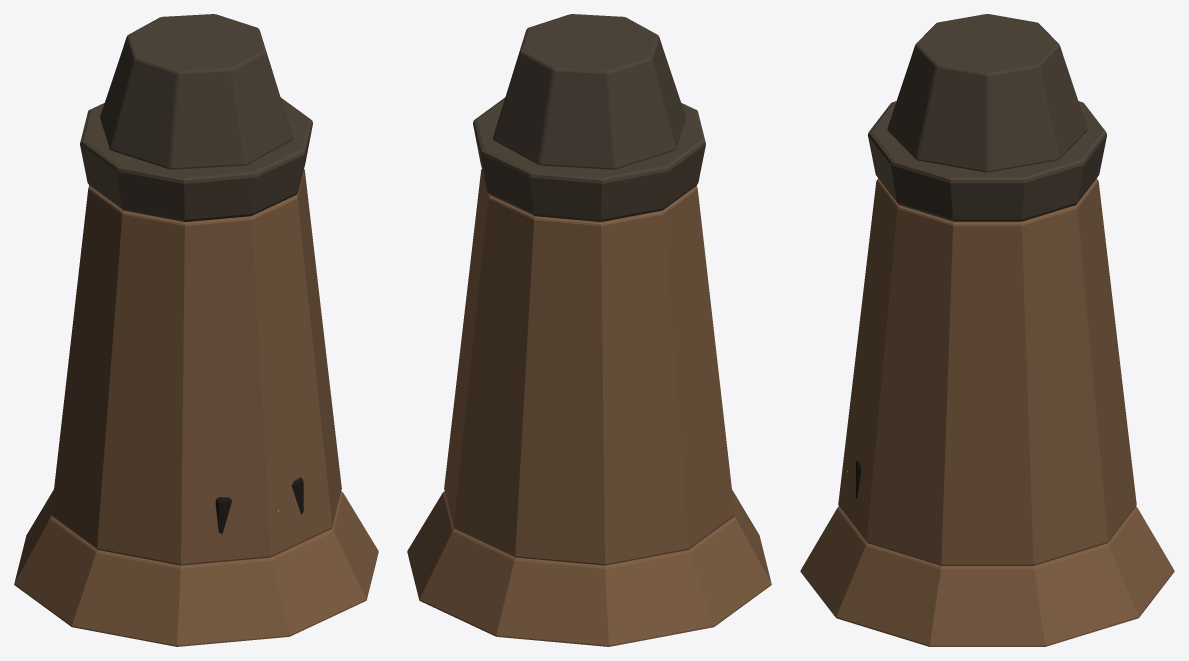
The model's file is furnace.glb.
3 renders of one model, left to right at view 1: azimuth 30°, elevation 25°; view 2: azimuth 150°, elevation 25°; view 3: azimuth 270°, elevation 25°, orthographic.
Visible parts, largest first — view 1: Cone.001, Cone, Cone.003, Cone.002, Cube; view 2: Cone.001, Cone, Cone.003, Cone.002; view 3: Cone.001, Cone, Cone.003, Cone.002.
Part boxes in pixels (x1,y1,x2,y2): Cone.001: (51,169,341,565); Cone: (14,489,378,646); Cone.003: (100,14,292,169); Cone.002: (80,97,312,221); Cube: (215,477,303,534); Cone.001: (444,169,734,565); Cone: (407,489,771,646); Cone.003: (493,14,685,169); Cone.002: (473,97,705,221); Cone.001: (838,178,1136,565); Cone: (800,506,1174,646); Cone.003: (887,14,1087,172); Cone.002: (868,101,1106,221).
Bounding box in the file's own units: 1.48 × 2.42 × 1.55.
